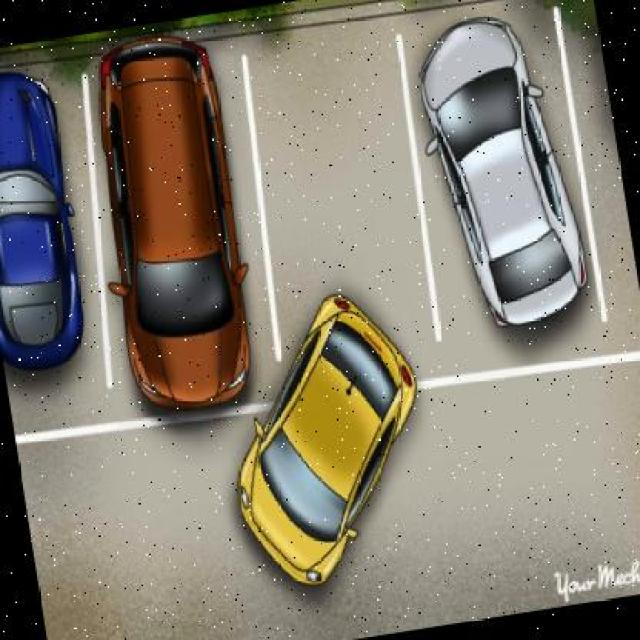Car: (92, 32, 270, 413), (413, 21, 601, 353), (222, 378, 455, 596), (1, 69, 98, 378)
Empty: (261, 44, 413, 290)
